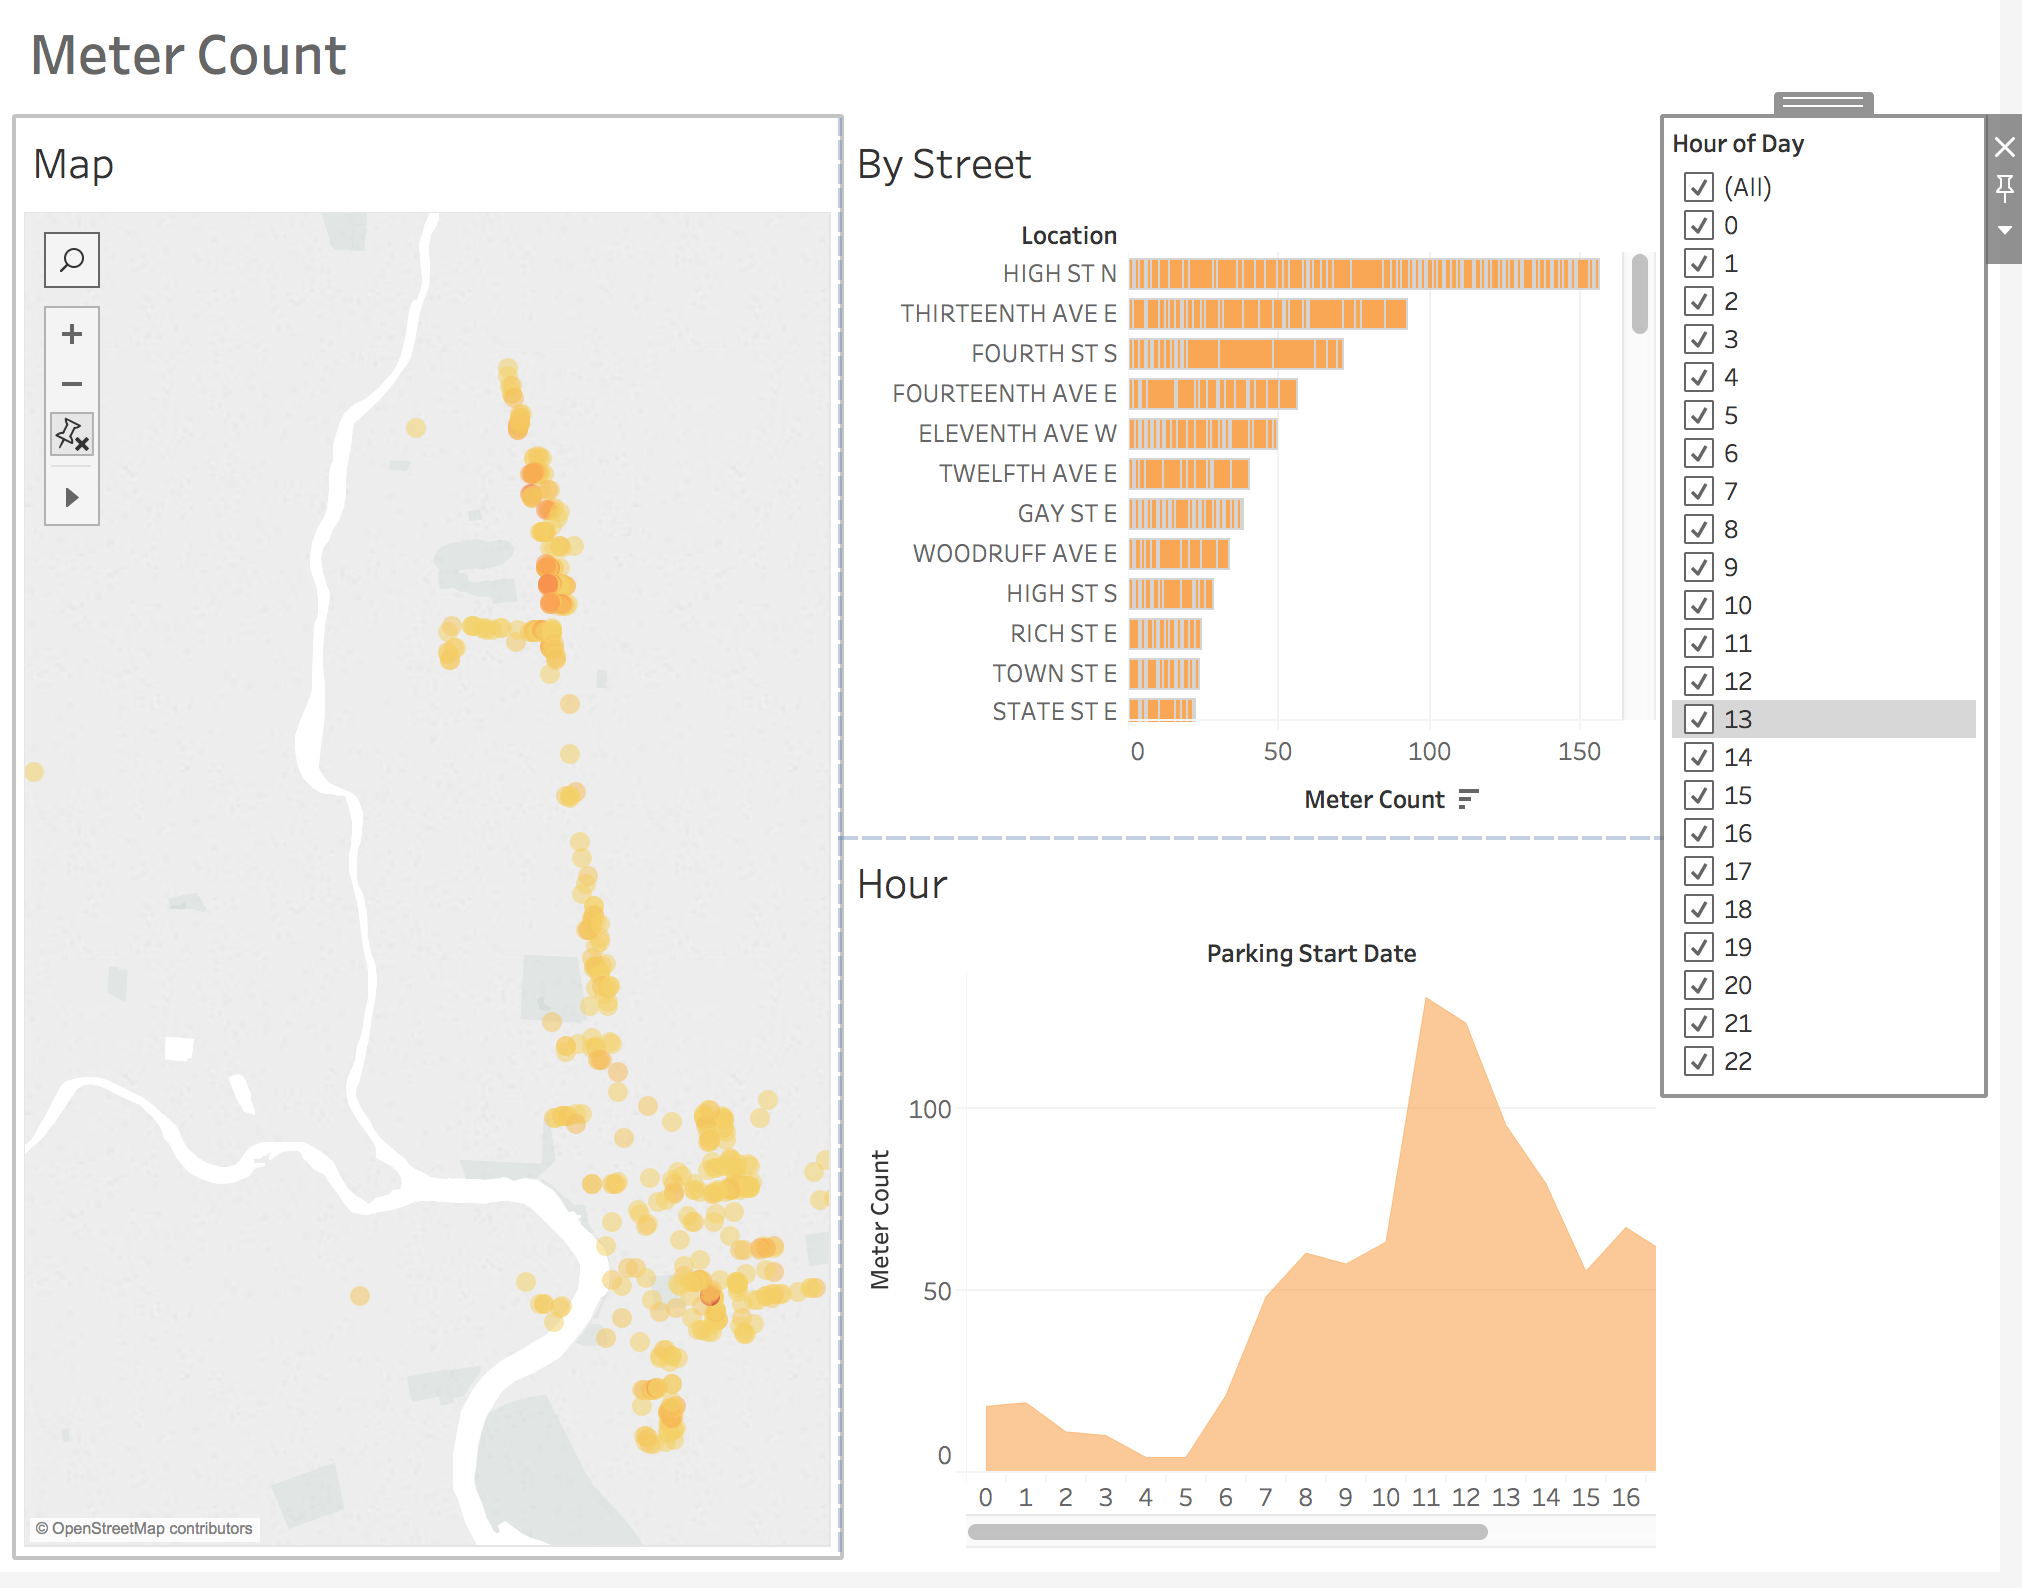

Layout of this report page (visuals, bound fields, positions):
{"tool":"tableau","page":{"name":"Meter Count","canvas":[1000,800],"ordinal":2},"visuals":[{"type":"text","box":[8,8,984,65]},{"type":"worksheet","title":"Map Meter Count","mark":"Automatic","rows":["Y"],"cols":["X"],"box":[8,73,412,719]},{"type":"worksheet","title":"Sheet 6","mark":"Automatic","rows":["LOCATION"],"cols":["Calculation_657455176955994112"],"box":[420,73,412,359.5]},{"type":"filter","title":"Map Meter Count","param":"[federated.0evcvzs0sn6uze11ie5tw0z4ns06].[hr:ParkingStartDate:ok]","box":[832,73,160,488]},{"type":"worksheet","title":"Sheet 7","mark":"Area","rows":["Calculation_657455176955994112"],"cols":["ParkingStartDate"],"box":[420,432.5,412,359.5]}]}

Visuals, with their boxes in screenshot pixels (x1, y1, x2, y2), scaled from the page's 1000x800 canvas onto the 2022x1588 screenshot:
text: x1=16, y1=16, x2=2006, y2=145
"Map Meter Count" worksheet: x1=16, y1=145, x2=849, y2=1572
"Sheet 6" worksheet: x1=849, y1=145, x2=1682, y2=859
"Map Meter Count" filter: x1=1682, y1=145, x2=2006, y2=1114
"Sheet 7" worksheet (Area marks): x1=849, y1=859, x2=1682, y2=1572
